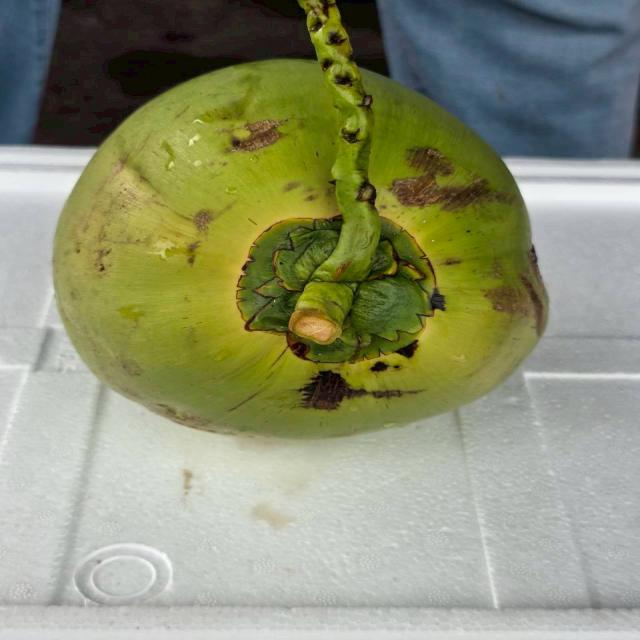coco_1.5: (180, 183, 503, 390)
